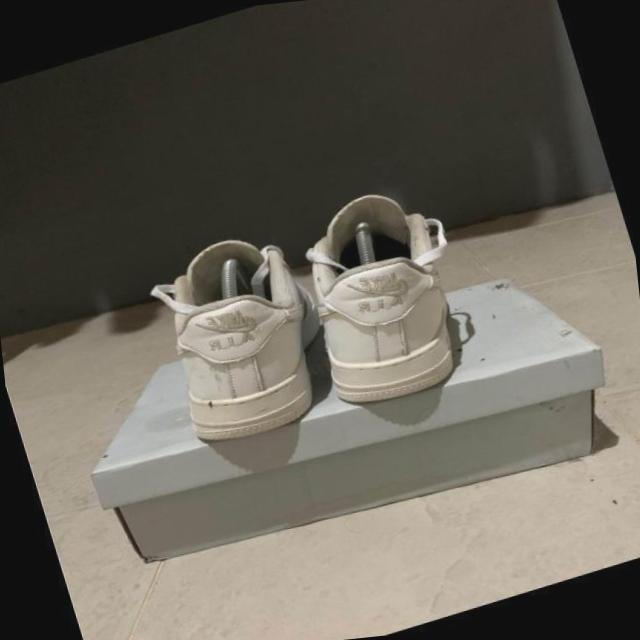nike_fake_airforce: (138, 215, 347, 456), (278, 176, 477, 420)
